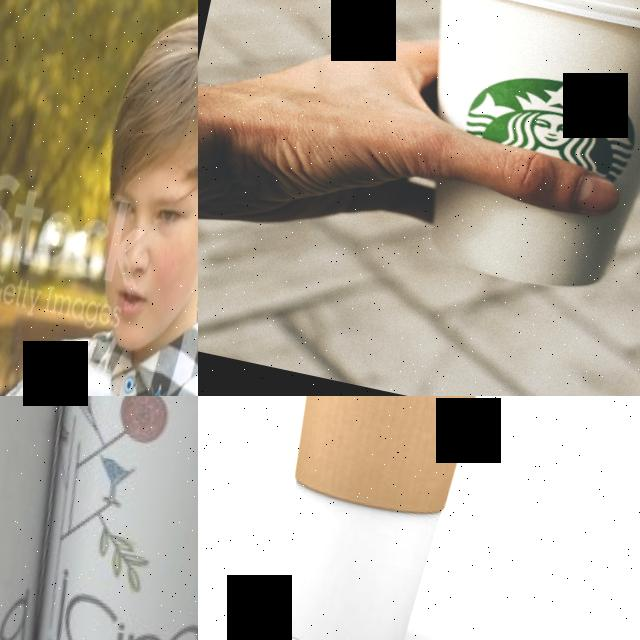can: (0, 396, 198, 640), (0, 396, 134, 640), (29, 352, 123, 396)
cup: (369, 0, 640, 312), (226, 396, 557, 640)
